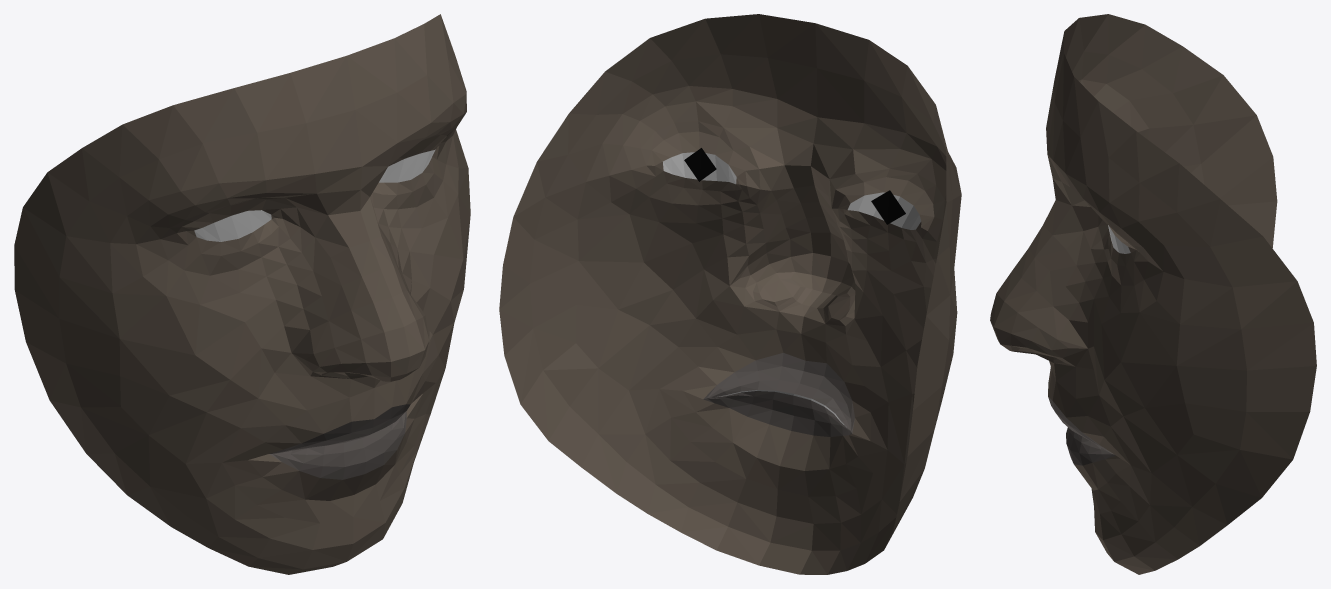
The model's file is childanger2.obj.
The picture shows the model from 3 angles, left to right: view 1: azimuth 30°, elevation 25°; view 2: azimuth 150°, elevation 25°; view 3: azimuth 270°, elevation 25°; orthographic projection. The views are drawn at different scales.
Visible parts, largest first — view 1: face_model_with_iris; view 2: face_model_with_iris; view 3: face_model_with_iris.
Part boxes in pixels (bbox=[...]): face_model_with_iris: bbox=[14, 14, 470, 574]; face_model_with_iris: bbox=[499, 14, 961, 574]; face_model_with_iris: bbox=[990, 14, 1316, 574].
Size of the model in its own units: 0.804 by 1 by 0.5896.
